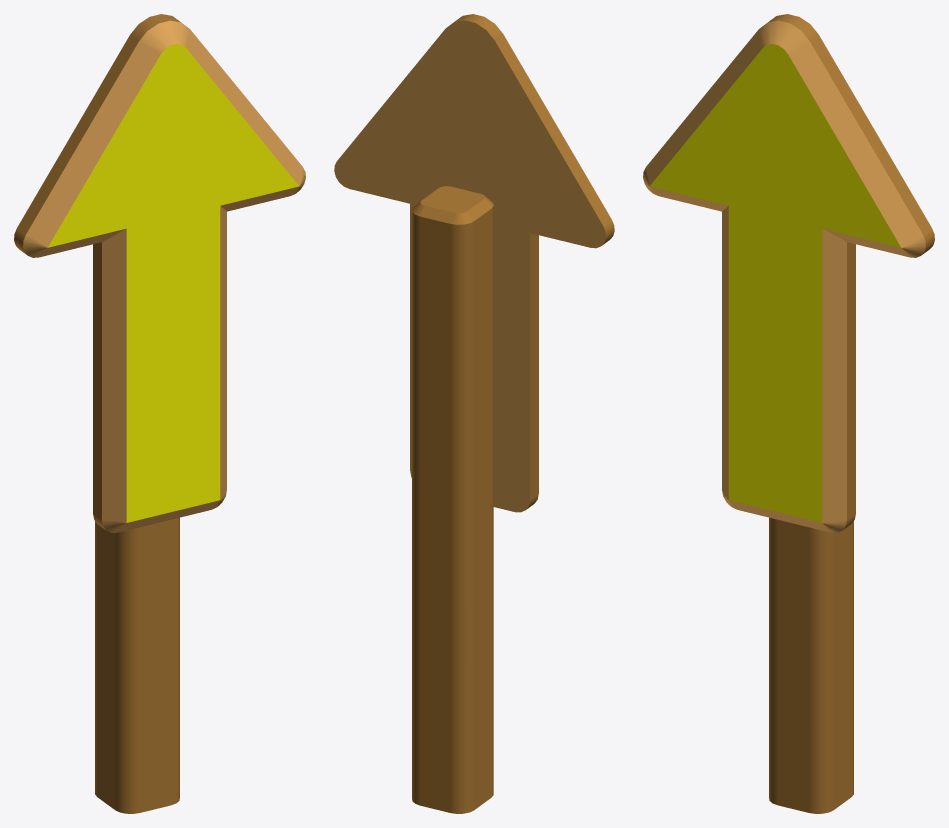
Rendered from Prop_Sign_Arrow_Up.obj.
3 views of the same model, side by side, from view 1: azimuth 30°, elevation 25°; view 2: azimuth 150°, elevation 25°; view 3: azimuth 330°, elevation 25° (orthographic). The views are drawn at different scales.
Parts seen in each view (by area): view 1: Arrow_Paint, Post, Wood_Medium, Wood_Dark; view 2: Post, Sign_Back, Wood_Dark, Post_Top; view 3: Arrow_Paint, Post, Wood_Medium, Wood_Dark.
Part boxes in pixels (x1=…): Arrow_Paint: x1=48, y1=44, x2=299, y2=522; Post: x1=95, y1=517, x2=179, y2=813; Wood_Medium: x1=23, y1=20, x2=305, y2=532; Wood_Dark: x1=14, y1=14, x2=180, y2=529; Post: x1=412, y1=196, x2=493, y2=813; Sign_Back: x1=334, y1=20, x2=605, y2=512; Wood_Dark: x1=454, y1=14, x2=614, y2=509; Post_Top: x1=420, y1=186, x2=484, y2=213; Arrow_Paint: x1=649, y1=44, x2=900, y2=522; Post: x1=769, y1=517, x2=853, y2=813; Wood_Medium: x1=643, y1=20, x2=925, y2=532; Wood_Dark: x1=768, y1=14, x2=934, y2=529.
Size of the model in its own units: 0.4525 by 1.21 by 0.15.
